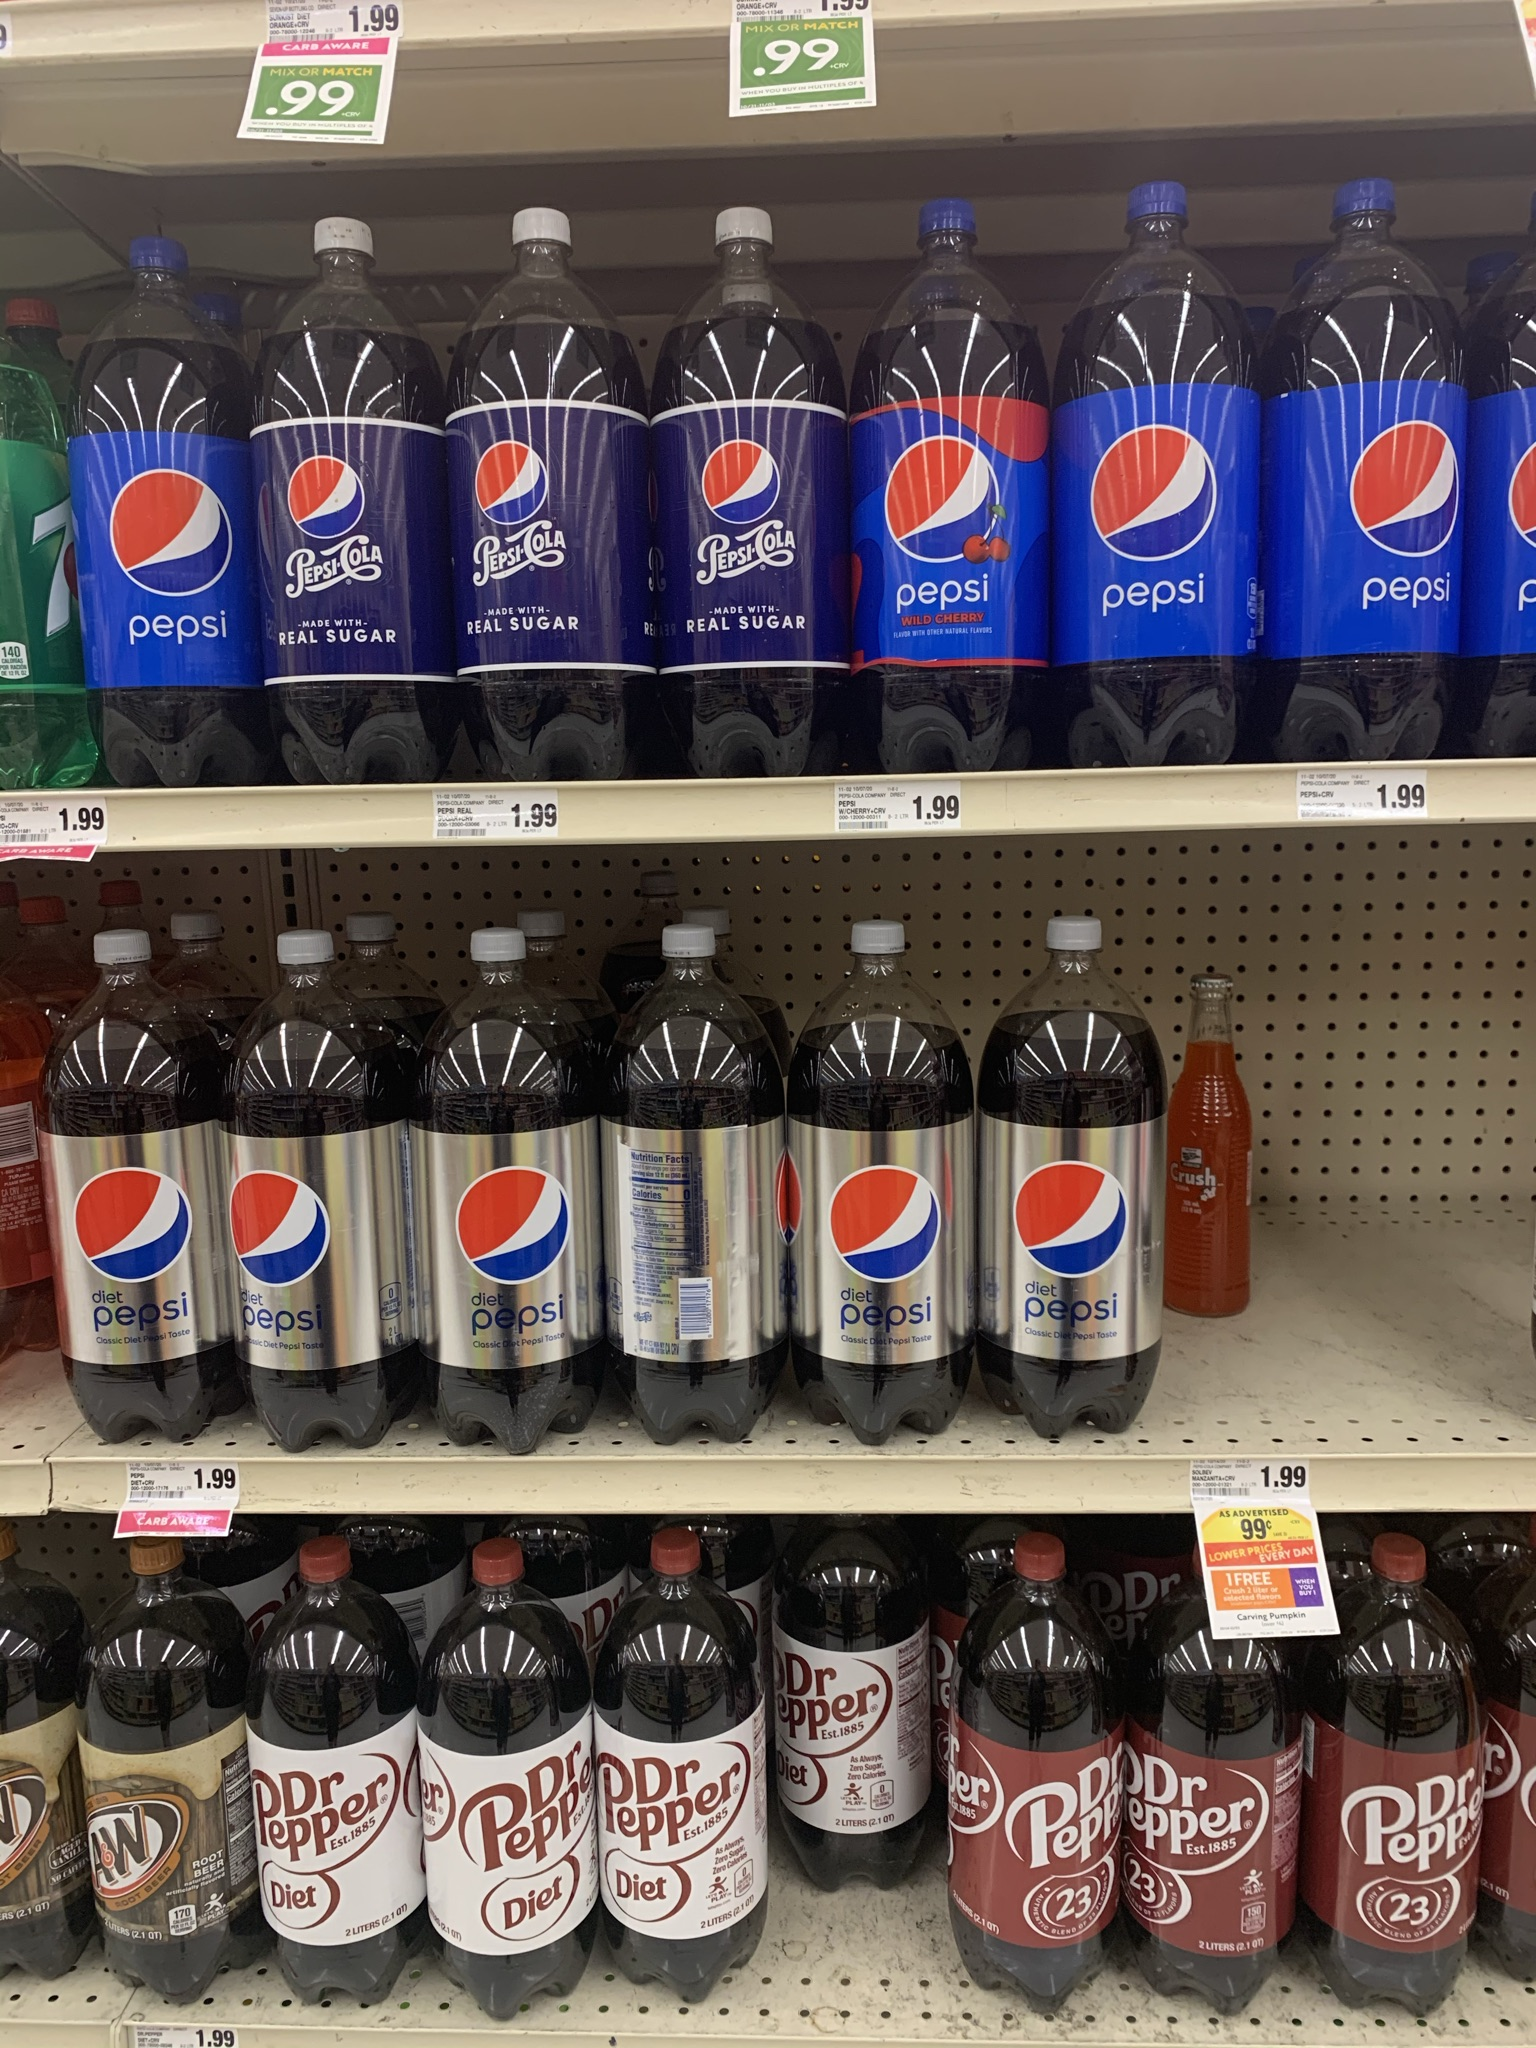aw soda: (110, 1543, 247, 2048)
dr pepper soda: (265, 1543, 437, 2048), (616, 1543, 784, 2048), (1171, 1561, 1334, 2030), (1354, 1538, 1507, 2029), (458, 1542, 594, 2048), (983, 1569, 1134, 2019), (802, 1524, 939, 1911)
pepsi soda: (1283, 171, 1467, 811), (437, 930, 634, 1493), (802, 916, 994, 1485), (839, 202, 1047, 724), (48, 924, 257, 1443), (1083, 179, 1257, 774), (237, 930, 419, 1496), (1008, 926, 1171, 1492), (623, 929, 770, 1426), (119, 260, 247, 793)
